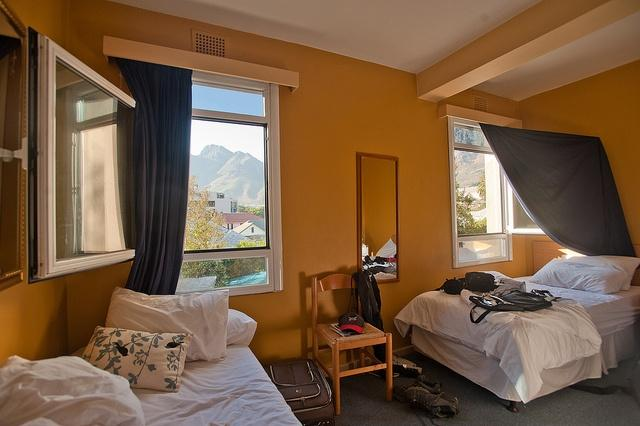Kursi: (311, 271, 393, 413)
